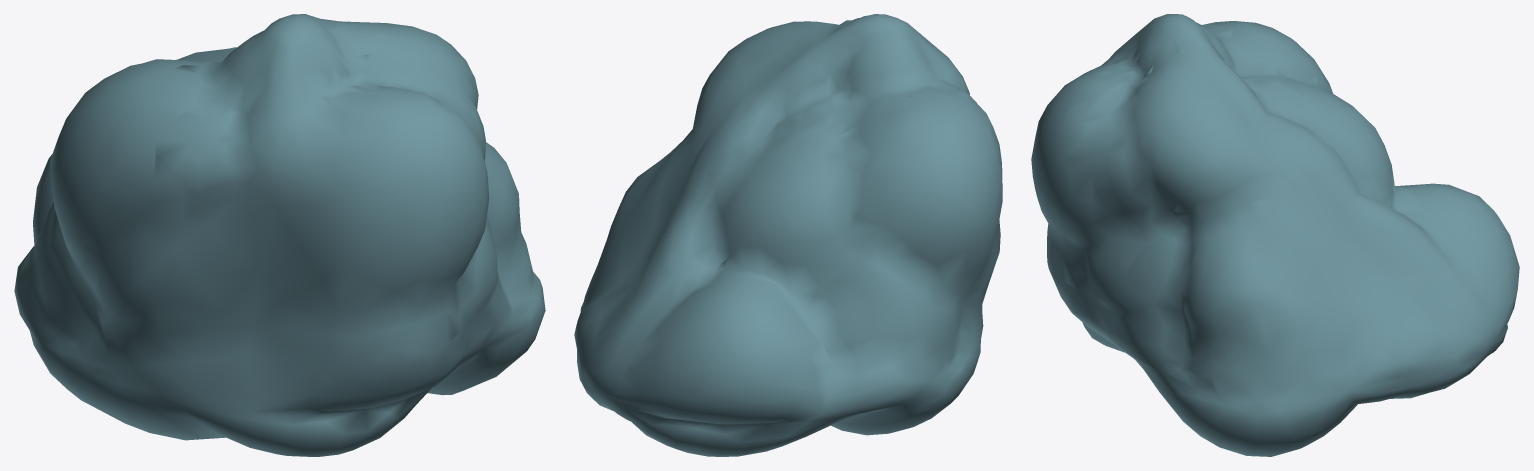
Rendered from env_primalcave_rocks_baseblob02.fbx.
3 views of the same model, side by side, from view 1: azimuth 30°, elevation 25°; view 2: azimuth 150°, elevation 25°; view 3: azimuth 270°, elevation 25° (orthographic). The views are drawn at different scales.
Visible parts, largest first — view 1: env_excavation_underground_sticky_blockout_baseblob02; view 2: env_excavation_underground_sticky_blockout_baseblob02; view 3: env_excavation_underground_sticky_blockout_baseblob02.
Boxes of the visible parts, bbox=[...] form: env_excavation_underground_sticky_blockout_baseblob02: bbox=[14, 14, 545, 456]; env_excavation_underground_sticky_blockout_baseblob02: bbox=[574, 14, 1002, 456]; env_excavation_underground_sticky_blockout_baseblob02: bbox=[1031, 14, 1519, 456].
Size of the model in its own units: 15.75 by 14.28 by 17.79.
